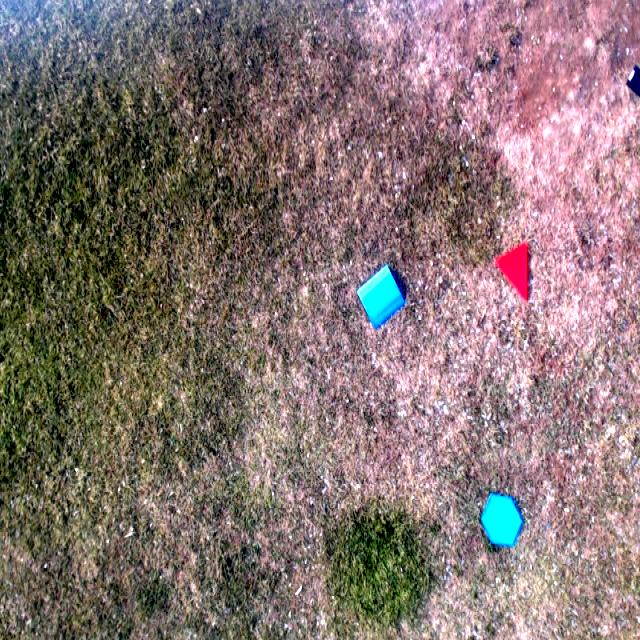blue_hexagon: (480, 491, 523, 550)
blue_square: (357, 264, 406, 329)
red_triangle: (493, 243, 528, 302)
